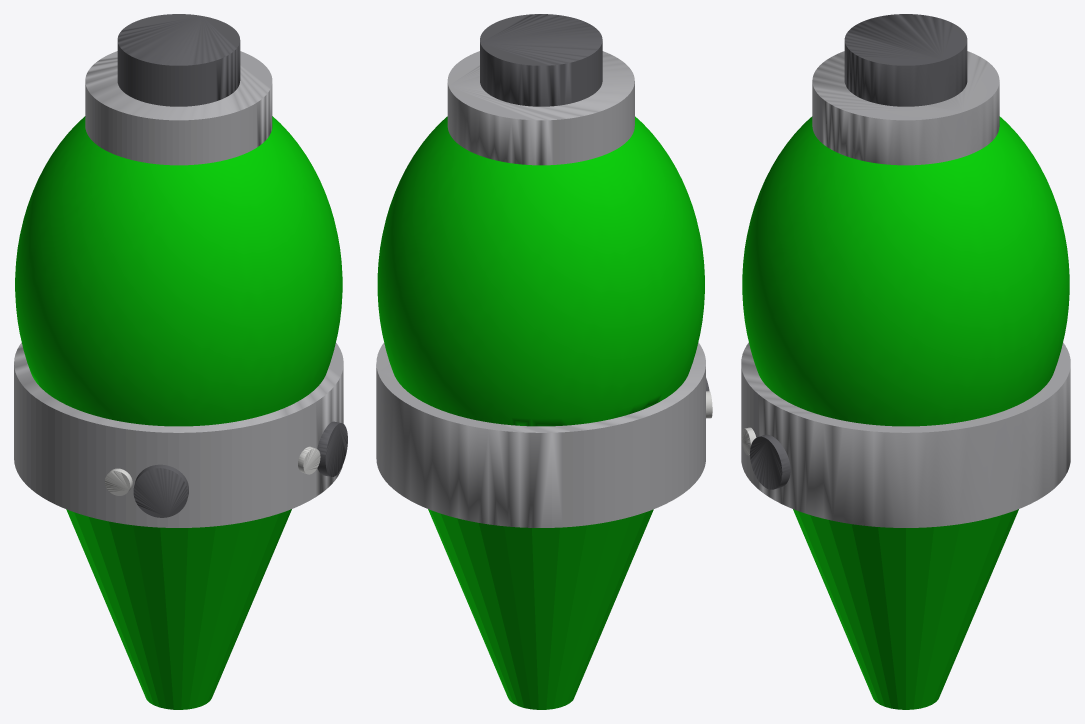
Rendered from limpet-drone.glb.
3 views of the same model, side by side, from view 1: azimuth 30°, elevation 25°; view 2: azimuth 150°, elevation 25°; view 3: azimuth 270°, elevation 25° (orthographic).
Parts seen in each view (by area): view 1: dome, band, cone, cap, nub, lens (×2), lamp; view 2: dome, band, cone, cap, nub; view 3: dome, band, cone, cap, nub, lens.
Boxes of the visible parts, x1,y1,x2,y2 form: dome: (15, 116, 342, 426); band: (14, 342, 343, 527); cone: (66, 509, 291, 709); cap: (85, 51, 272, 165); nub: (117, 14, 240, 106); lens (×2): (133, 421, 347, 517); lamp: (104, 468, 132, 495); dome: (377, 116, 704, 426); band: (376, 342, 705, 527); cone: (428, 509, 653, 709); cap: (447, 51, 634, 165); nub: (480, 14, 602, 106); dome: (742, 116, 1069, 426); band: (741, 342, 1070, 527); cone: (793, 509, 1018, 709); cap: (812, 51, 999, 165); nub: (844, 14, 967, 106); lens: (750, 434, 790, 489).
Size of the model in its own units: 0.3299 by 0.7242 by 0.3299.
